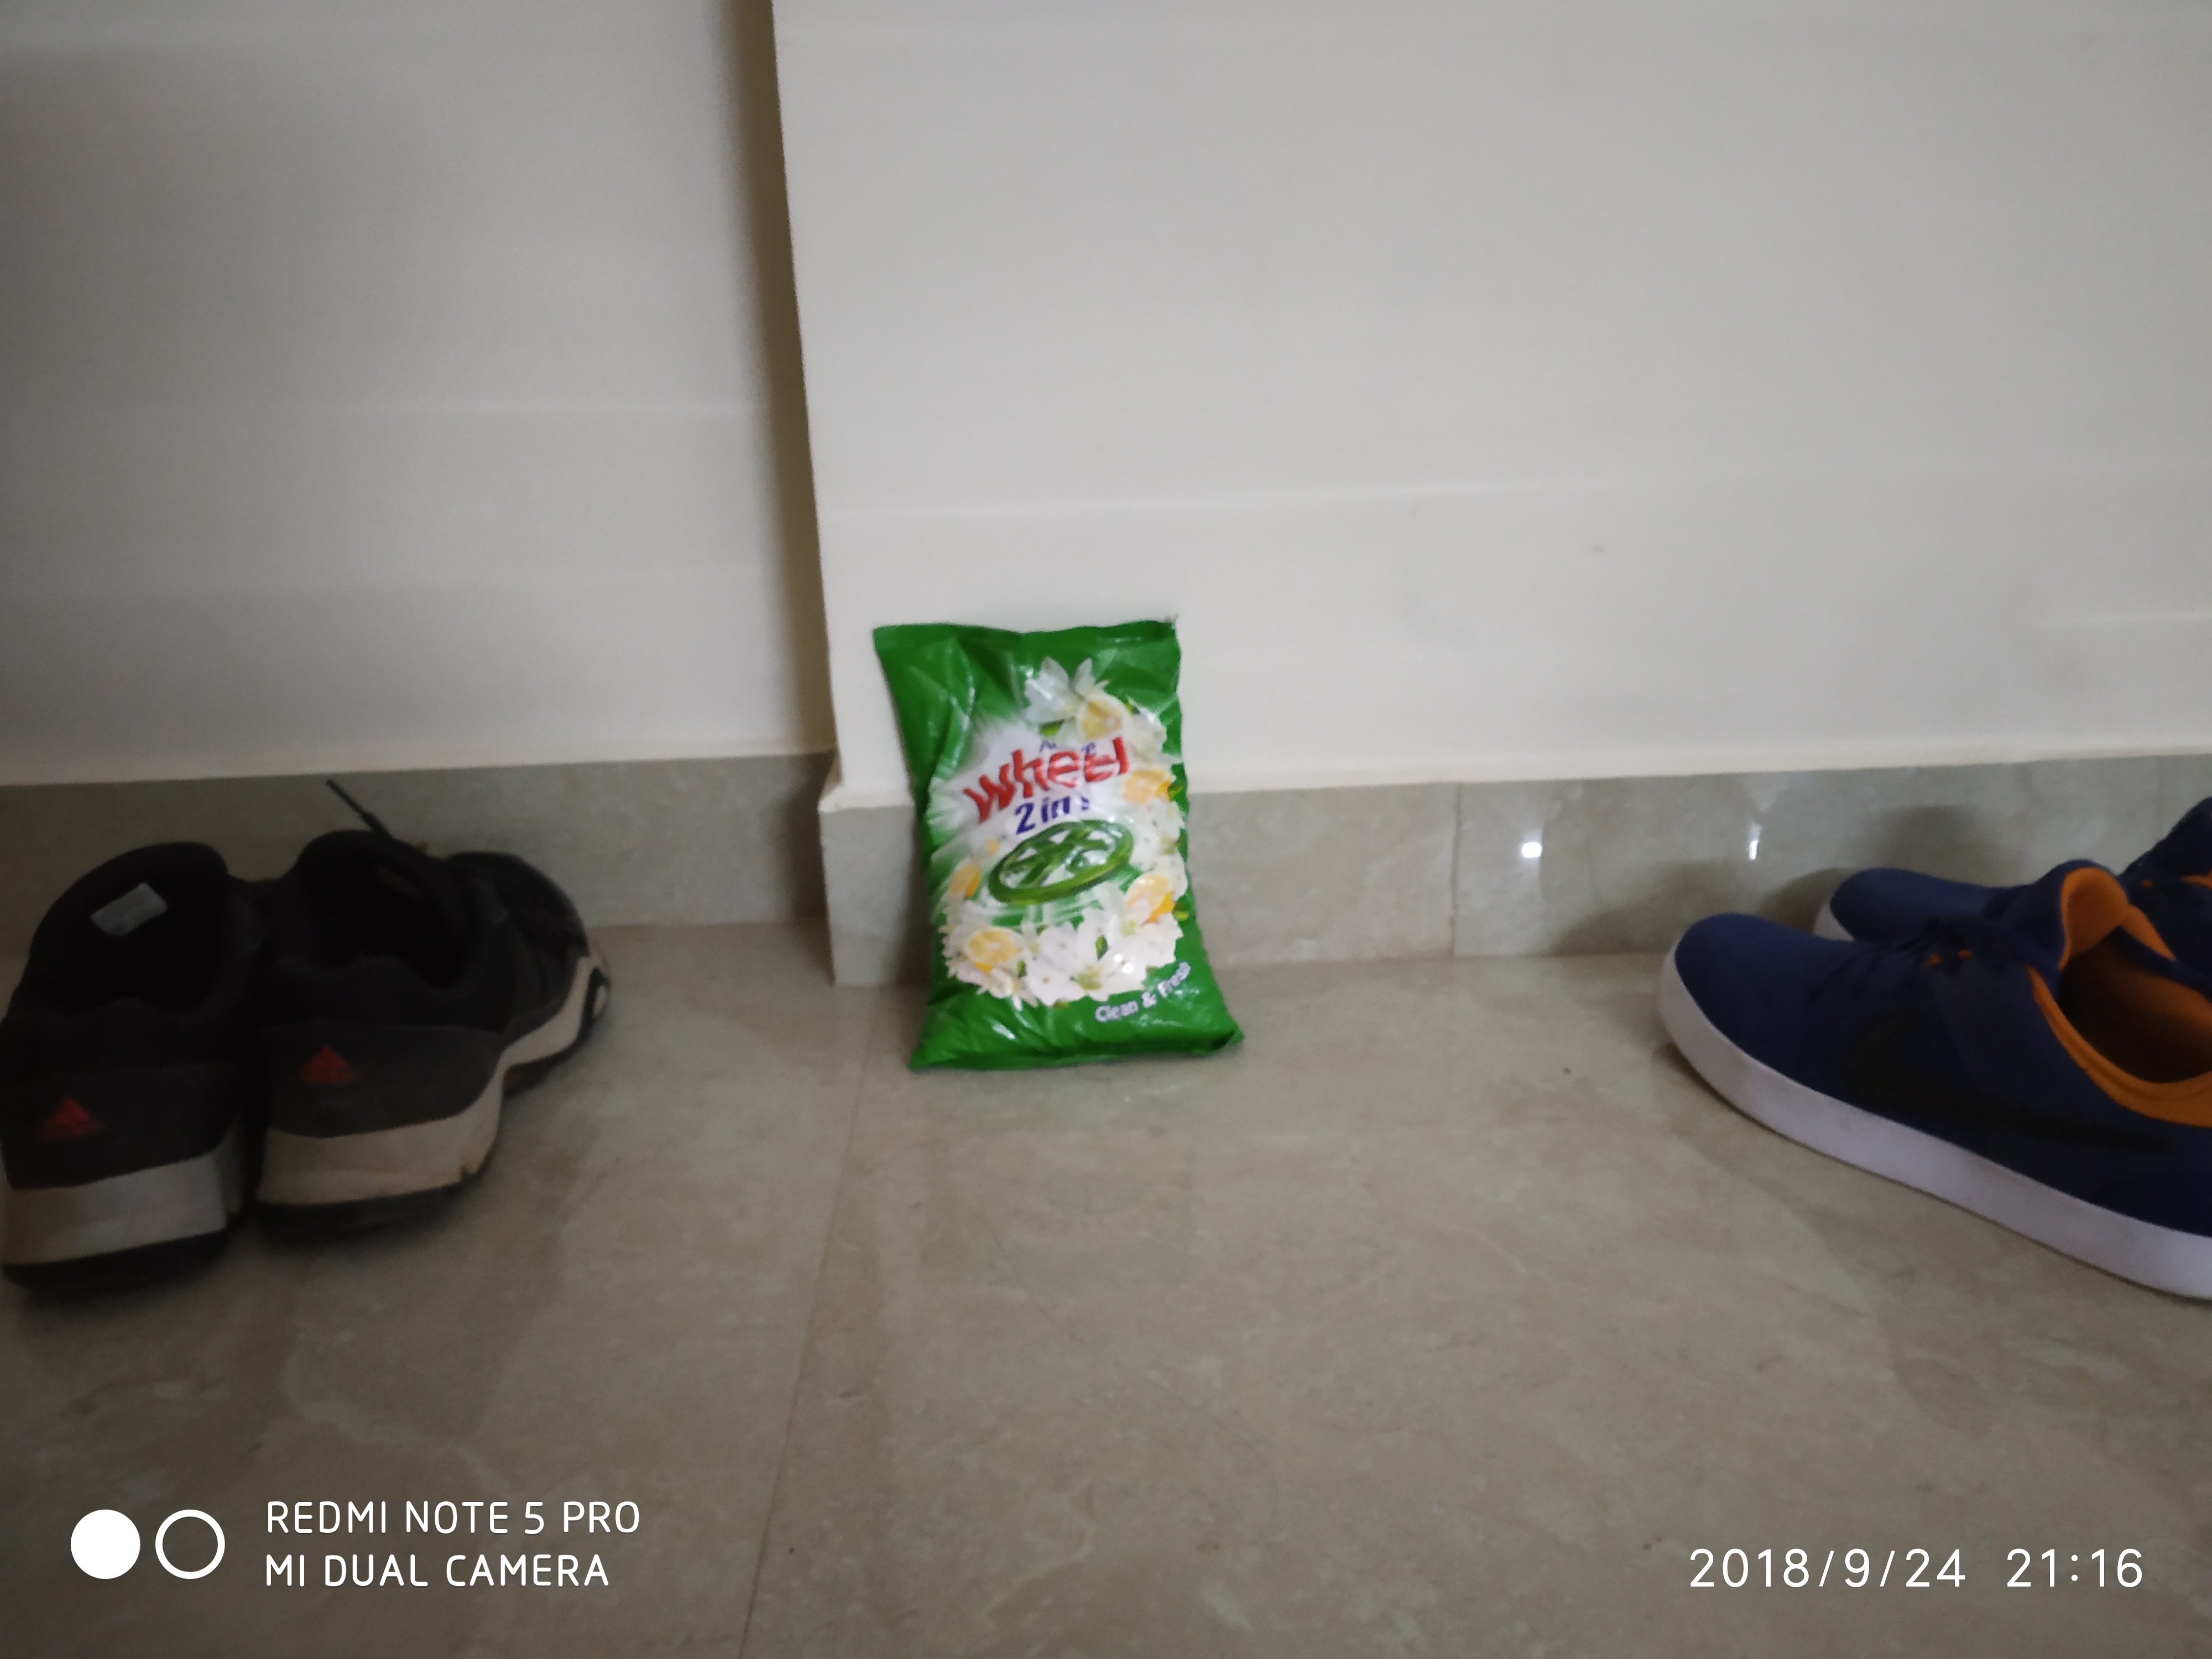detergent: (877, 607, 1243, 1073)
